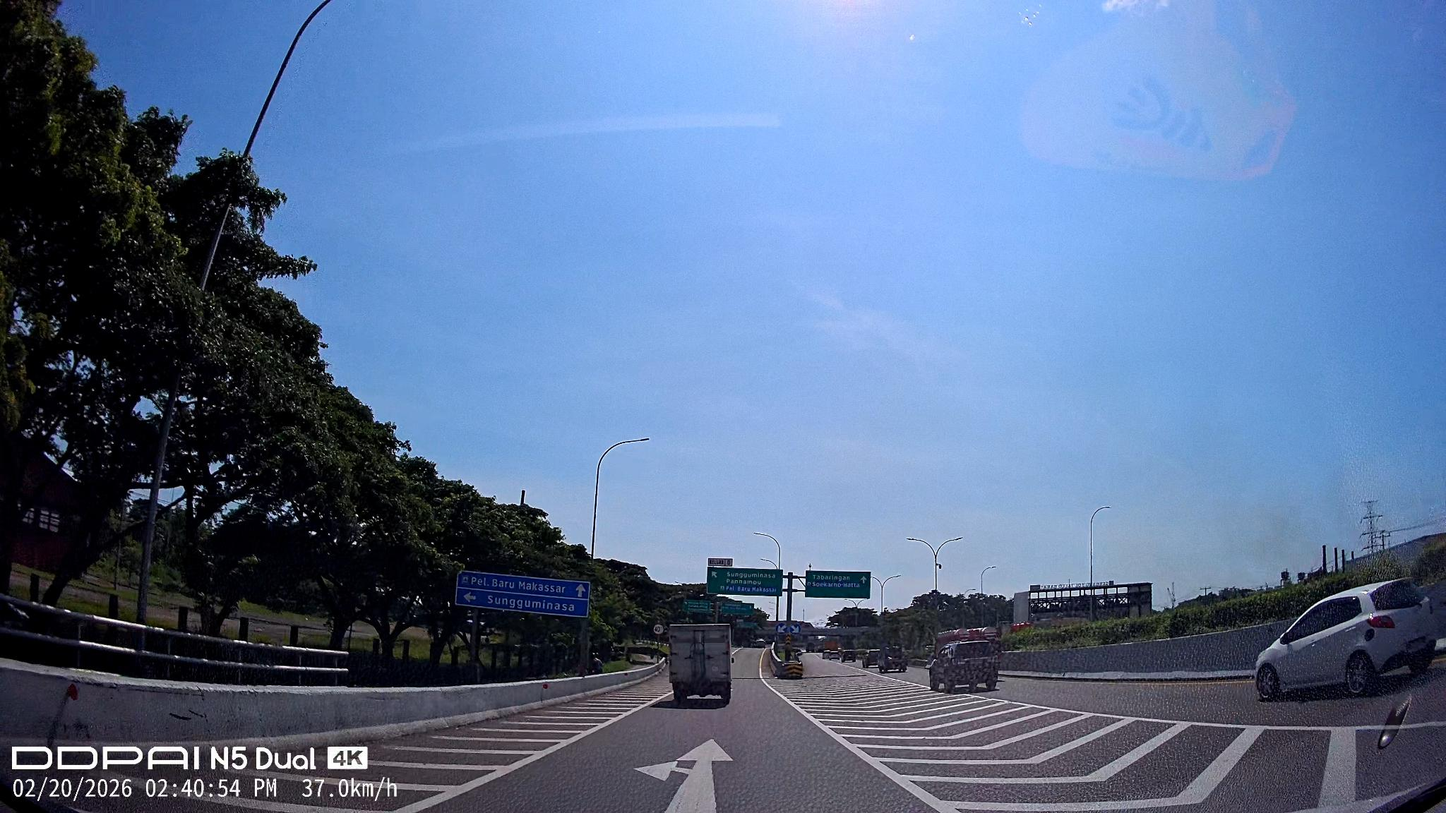rambu_teks: (706, 566, 783, 597), (805, 569, 871, 600)
